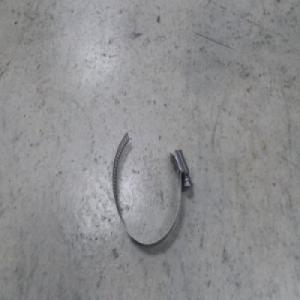AdjustableClamp: (112, 130, 192, 245)
